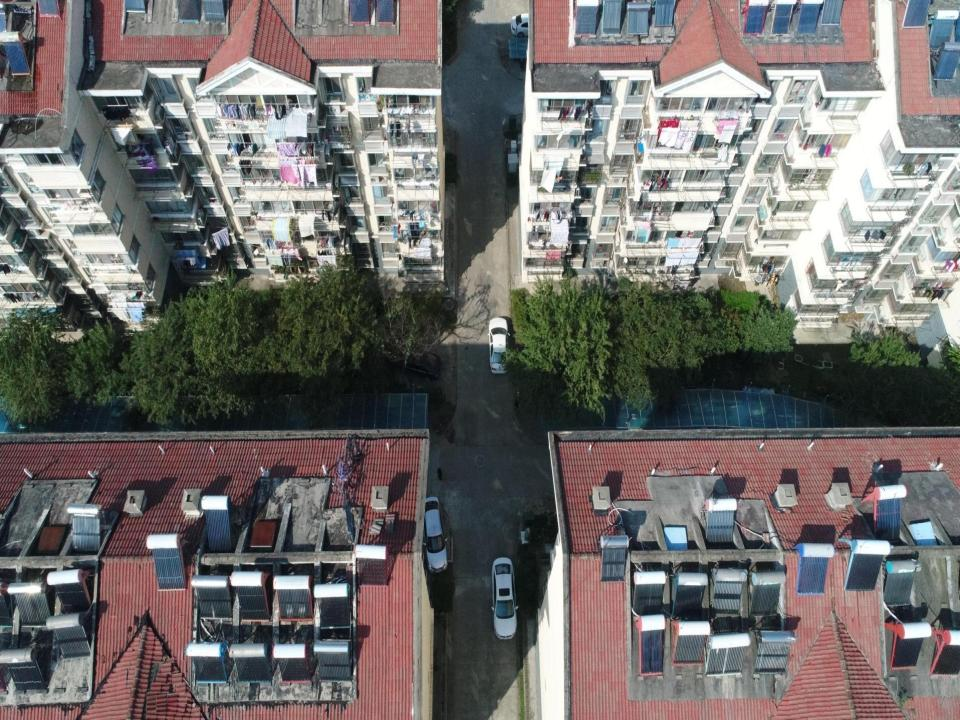car: (490, 556, 520, 640), (419, 497, 449, 574), (398, 346, 442, 380), (488, 317, 510, 375), (510, 13, 548, 38)
